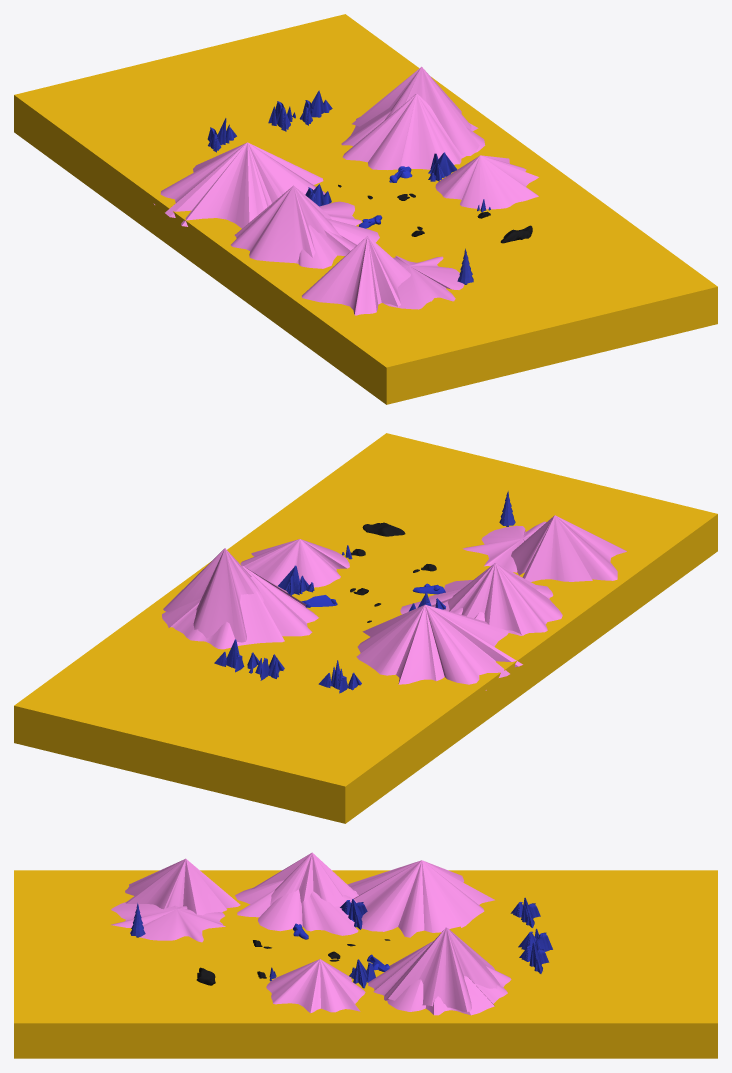
The model's file is mountains.glb.
3 renders of one model, top to bottom at view 1: azimuth 30°, elevation 25°; view 2: azimuth 150°, elevation 25°; view 3: azimuth 270°, elevation 25°, orthographic. The views are drawn at different scales.
Parts seen in each view (by area): view 1: Box, Cone 1, Cone 2, Cone 8, Cone 4, Cone 3, Cone 5, Cone, Cone 7; view 2: Box, Cone 1, Cone 8, Cone 2, Cone 4, Cone 5, Cone 3, Cone 7, Cone; view 3: Box, Cone 1, Cone 5, Cone, Cone 8, Cone 3, Cone 2, Cone 7, Cone 4.
Boxes of the visible parts, box(x1,y1,x2,y2) form: Box: box(14, 14, 717, 404); Cone 1: box(153, 142, 325, 228); Cone 2: box(341, 94, 485, 169); Cone 8: box(302, 235, 410, 315); Cone 4: box(231, 185, 342, 263); Cone 3: box(435, 155, 538, 209); Cone 5: box(352, 66, 479, 155); Cone: box(234, 201, 379, 268); Cone 7: box(384, 255, 464, 309); Box: box(14, 433, 717, 823); Cone 1: box(356, 604, 522, 690); Cone 8: box(511, 515, 626, 581); Cone 2: box(162, 566, 318, 649); Cone 4: box(447, 563, 562, 635); Cone 5: box(163, 548, 263, 642); Cone 3: box(240, 539, 349, 587); Cone 7: box(462, 521, 546, 572); Cone: box(400, 580, 553, 635); Box: box(14, 870, 717, 1058); Cone 1: box(347, 860, 494, 937); Cone 5: box(384, 927, 500, 1012); Cone: box(235, 880, 358, 935); Cone 8: box(125, 858, 240, 915); Cone 3: box(266, 959, 365, 1013); Cone 2: box(368, 941, 511, 1015); Cone 7: box(111, 902, 225, 942); Cone 4: box(251, 852, 358, 906).
Size of the model in its own units: 0.9439 by 0.2849 by 1.81.
